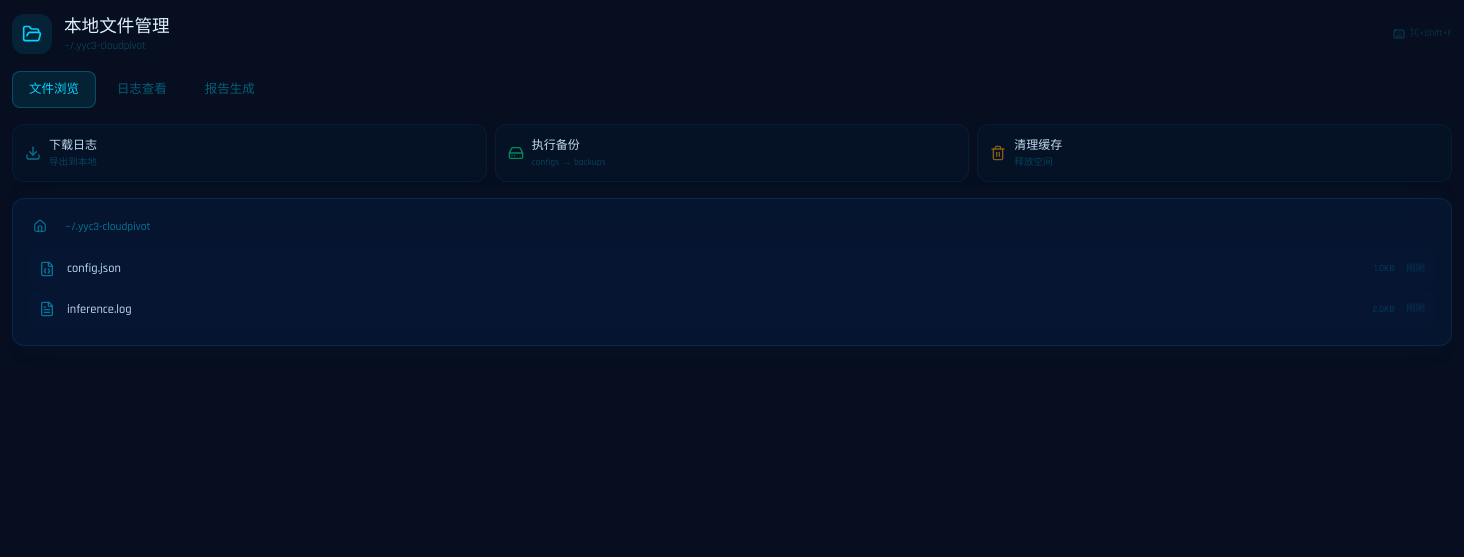
Test case: LocalFileManager › should switch to ReportGenerator when reports tab is clicked
The width and height of the screenshot is (1464, 557).
Click the button with test id "tab-reports": click(230, 90) [188, 71, 272, 108]
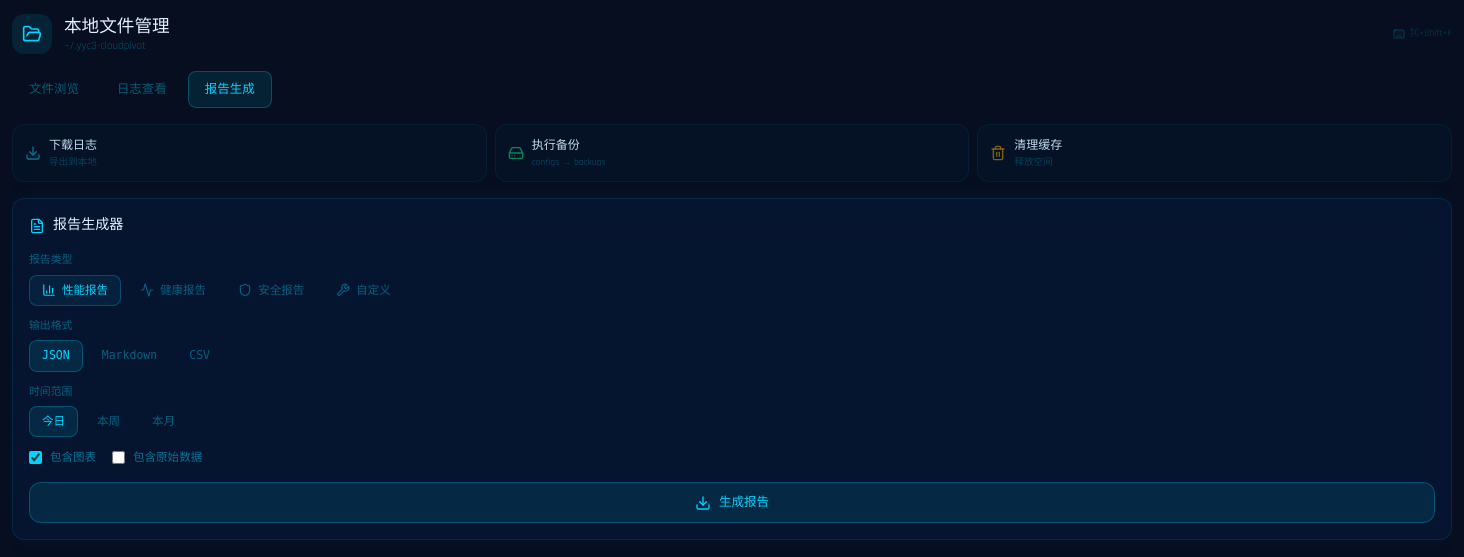
Expected: the element with test id "report-generator" is shown
